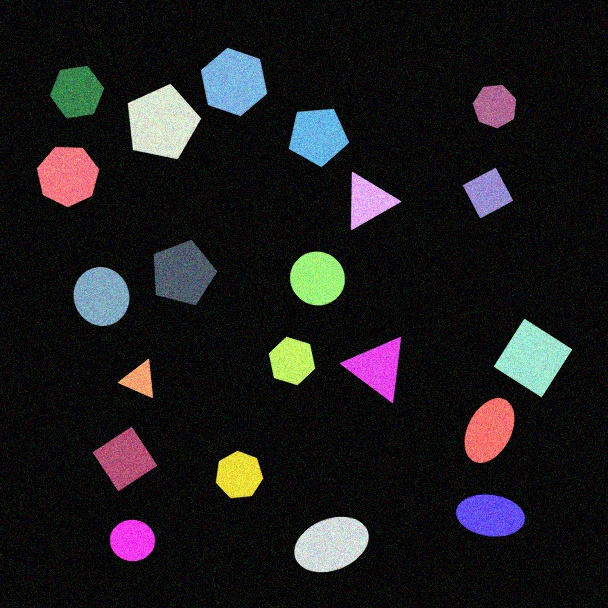Circulo: (73, 266, 130, 327), (289, 251, 346, 306), (109, 519, 156, 562)
Elipse: (293, 516, 370, 573), (464, 397, 515, 464), (455, 494, 526, 537)
Heptagono: (36, 146, 100, 208), (215, 450, 264, 499), (472, 84, 517, 129)
Hexagono: (200, 47, 268, 117), (49, 65, 105, 119), (268, 336, 316, 386)
Pentagono: (127, 83, 202, 160), (153, 239, 218, 306), (288, 108, 350, 168)
Quadrado: (493, 318, 573, 398), (92, 426, 158, 492), (462, 167, 514, 219)
Triangulo: (340, 336, 402, 404), (350, 171, 402, 231), (118, 358, 154, 399)
